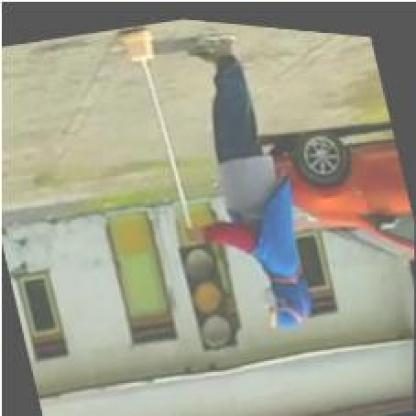yellow: (178, 234, 240, 352)
